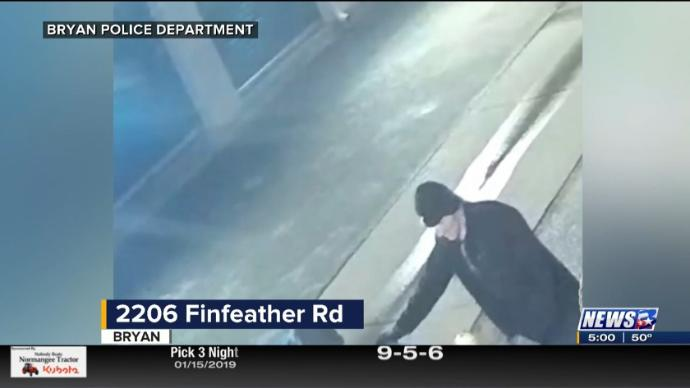Person: (376, 176, 580, 347)
